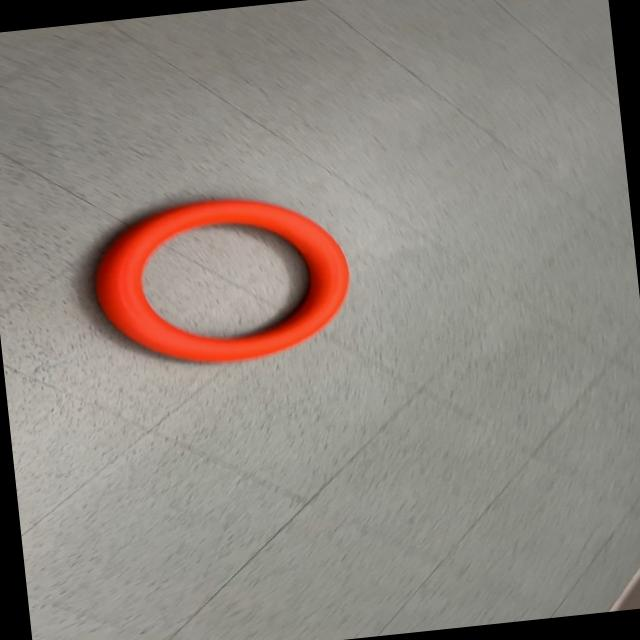note: (85, 184, 359, 376)
